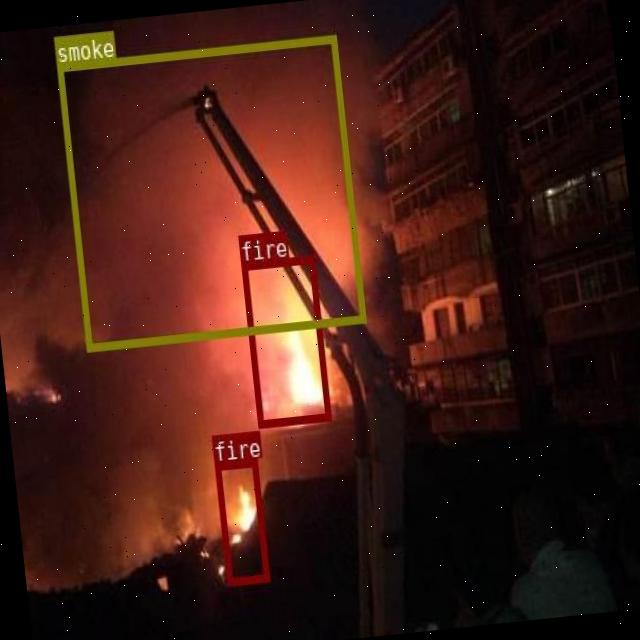fire: (240, 254, 330, 426), (213, 456, 268, 584)
smoke: (56, 34, 364, 349)
